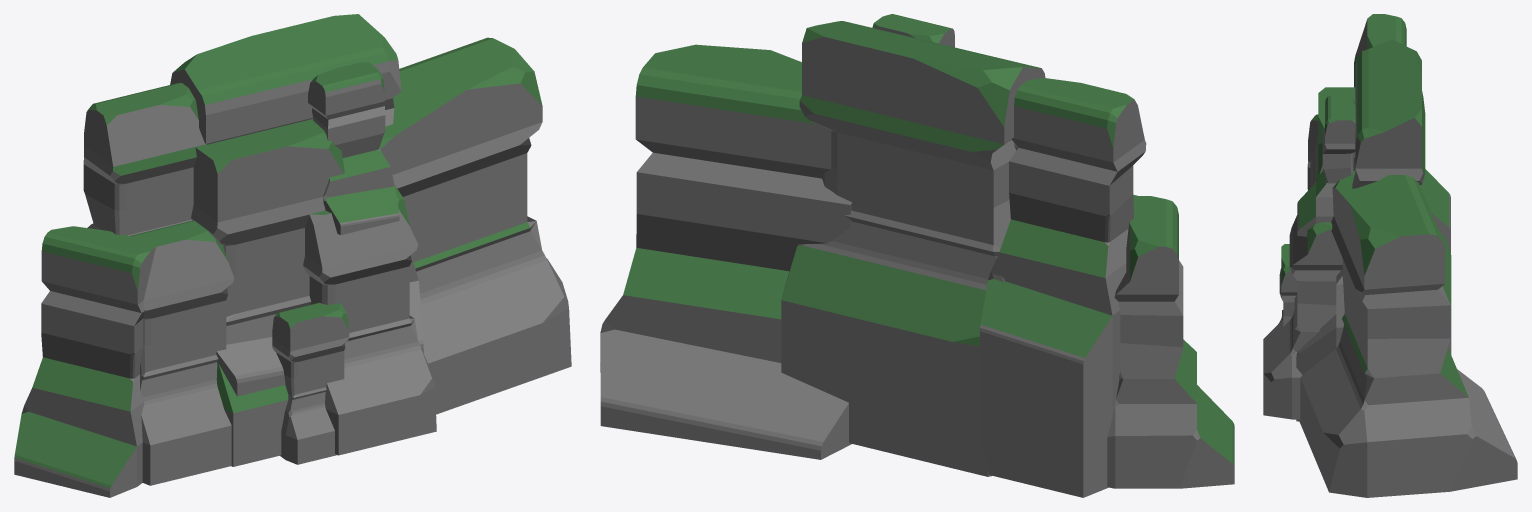
Rendered from Cliff.fbx.
3 renders of one model, left to right at view 1: azimuth 30°, elevation 25°; view 2: azimuth 150°, elevation 25°; view 3: azimuth 270°, elevation 25°, orthographic. The views are drawn at different scales.
Parts seen in each view (by area): view 1: Cube.008, Cube.007, Cube, Cube.001, Cube.003, Cube.006, Cube.004, Cube.005, Cube.002; view 2: Cube.006, Cube.008, Cube.004, Cube.007, Cube.005; view 3: Cube.008, Cube.006, Cube.001, Cube.005, Cube.004, Cube.002, Cube, Cube.007.
Part boxes in pixels (x1=…): Cube.008: x1=379, y1=37, x2=571, y2=414; Cube.007: x1=14, y1=226, x2=155, y2=497; Cube: x1=191, y1=119, x2=344, y2=466; Cube.001: x1=303, y1=186, x2=436, y2=455; Cube.003: x1=121, y1=220, x2=234, y2=485; Cube.006: x1=170, y1=14, x2=423, y2=396; Cube.004: x1=83, y1=82, x2=206, y2=235; Cube.005: x1=308, y1=62, x2=399, y2=235; Cube.002: x1=272, y1=302, x2=349, y2=464; Cube.006: x1=781, y1=21, x2=1045, y2=476; Cube.008: x1=600, y1=44, x2=852, y2=459; Cube.004: x1=980, y1=78, x2=1146, y2=497; Cube.007: x1=1107, y1=196, x2=1234, y2=488; Cube.005: x1=872, y1=14, x2=954, y2=47; Cube.008: x1=1299, y1=170, x2=1517, y2=497; Cube.006: x1=1296, y1=39, x2=1451, y2=421; Cube.001: x1=1263, y1=215, x2=1342, y2=419; Cube.005: x1=1297, y1=95, x2=1355, y2=236; Cube.004: x1=1354, y1=14, x2=1450, y2=253; Cube.002: x1=1278, y1=244, x2=1297, y2=326; Cube: x1=1315, y1=87, x2=1355, y2=181; Cube.007: x1=1307, y1=114, x2=1318, y2=190.
Bounding box in the file's own units: 684 × 426 × 320.
